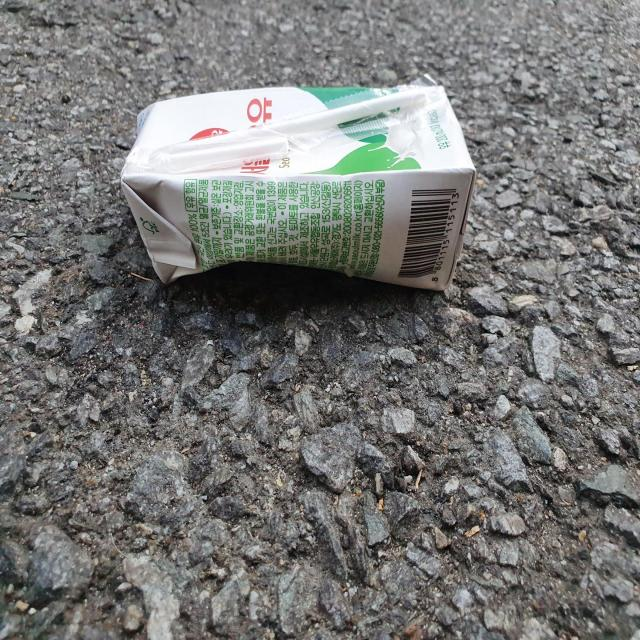paperpack: (120, 77, 476, 290)
